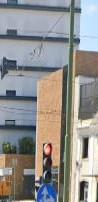red_light: (43, 143, 52, 182)
